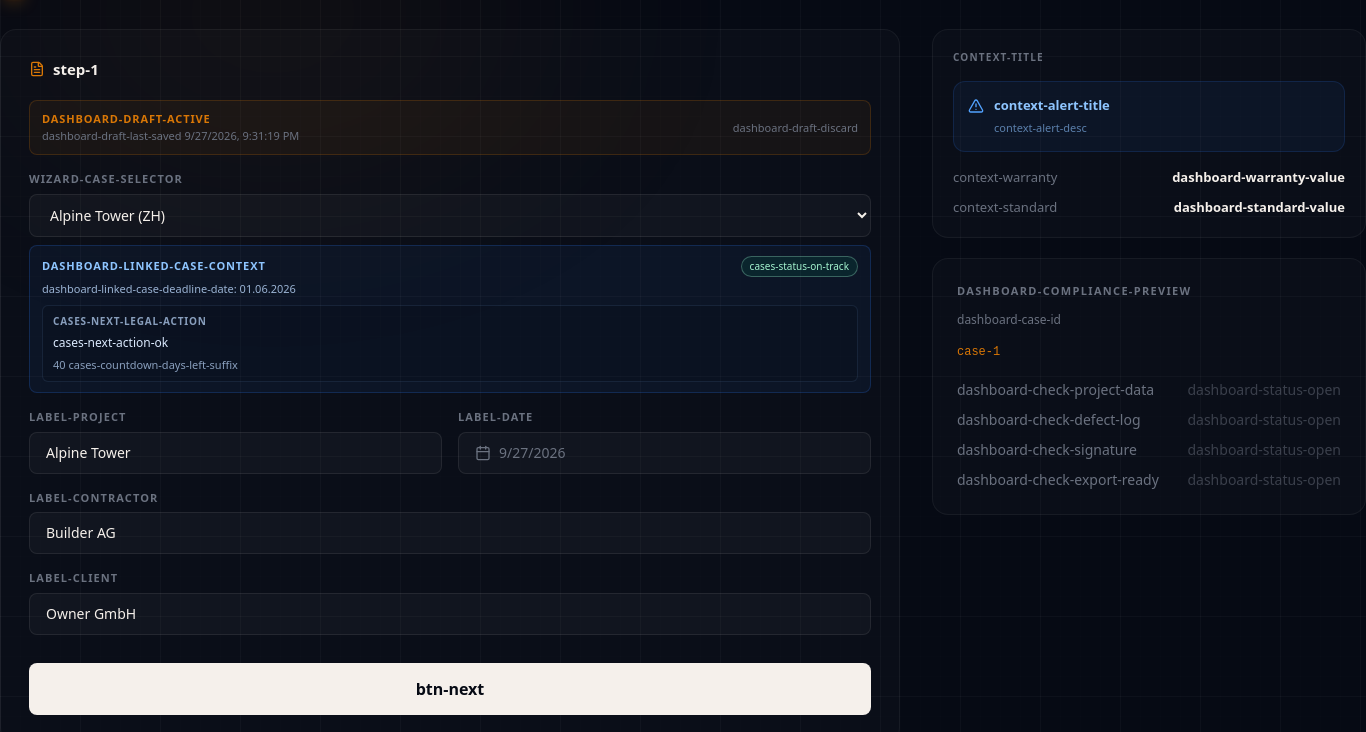
Scenario: dashboard linked-case loading retry › shows a linked-case follow-up action after finalizing a linked protocol
(page scrolled)
Click the button "btn-next" at (450, 689), box [29,663,871,715]
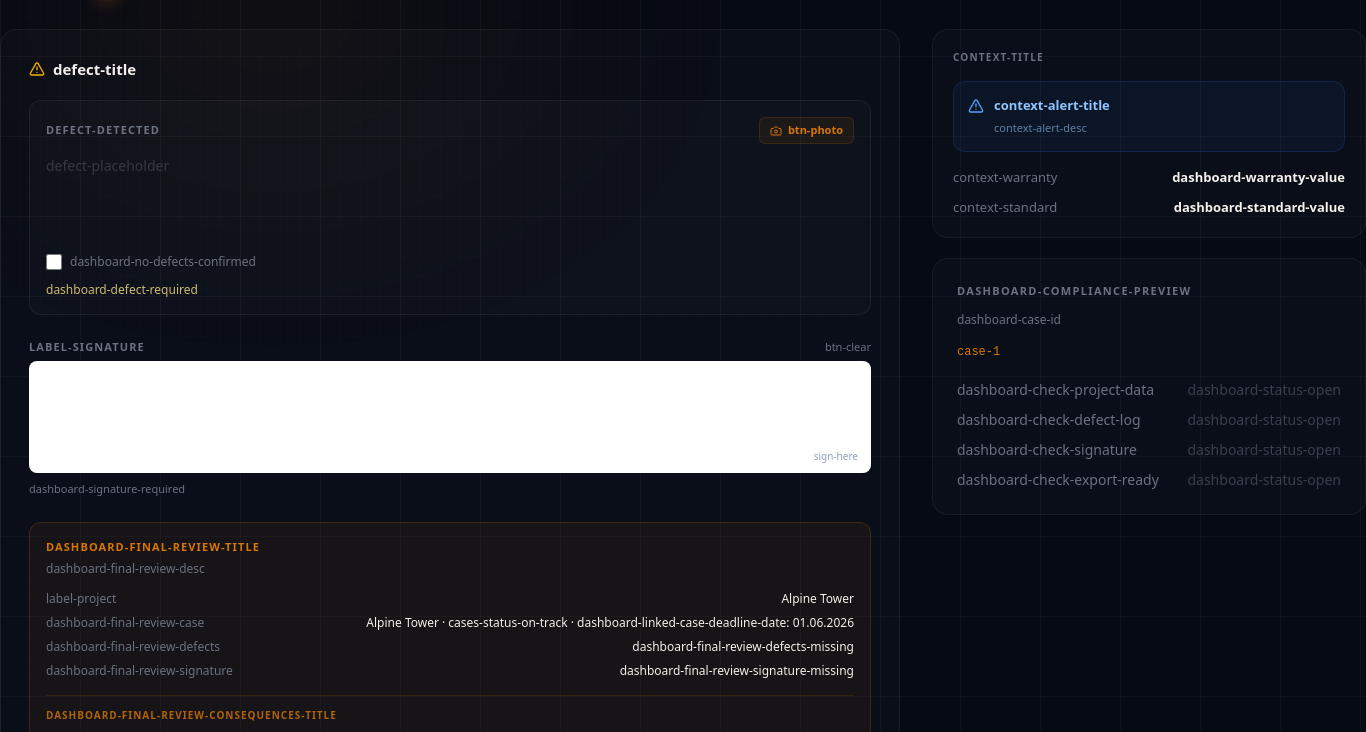
Click the checkbox at (54, 262), box [46,254,62,270]
(page scrolled)
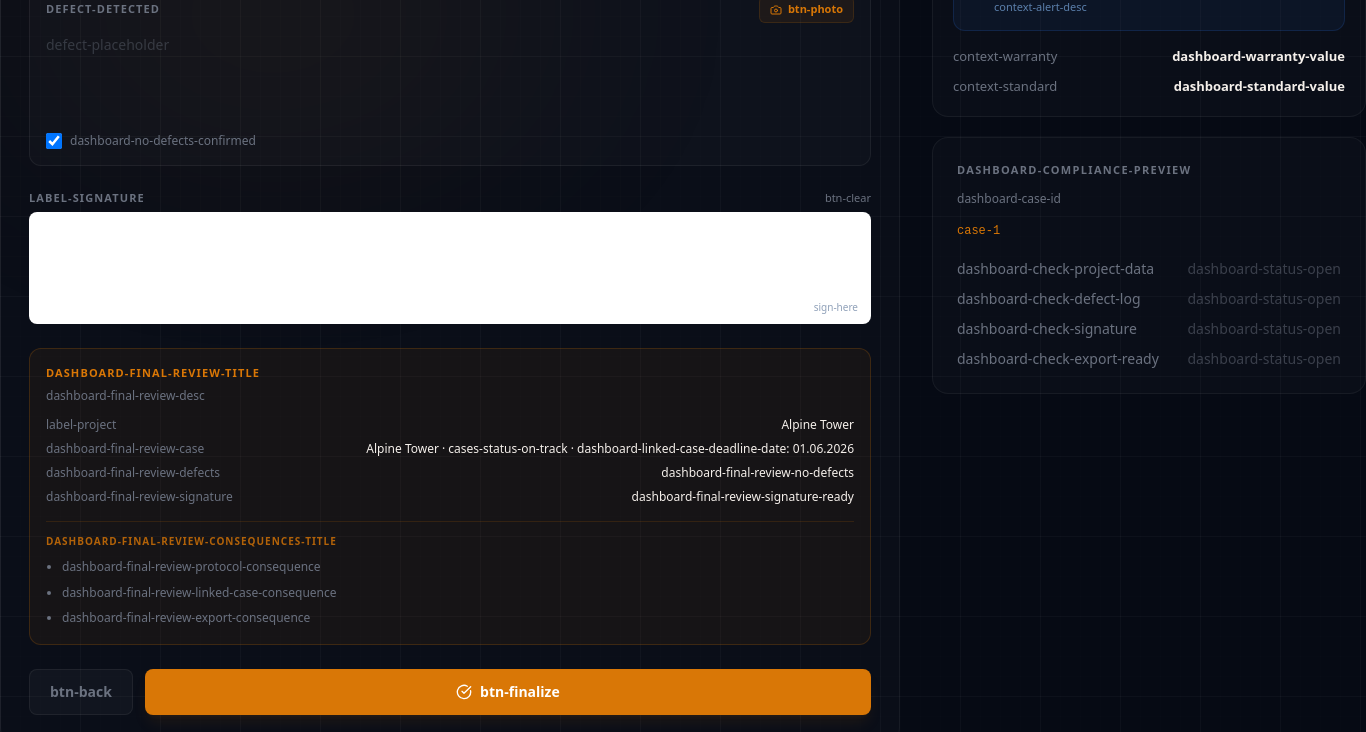
Result: the button "btn-finalize" is enabled
Click the button "btn-finalize" at (508, 692), box [145,669,871,715]
(page scrolled)
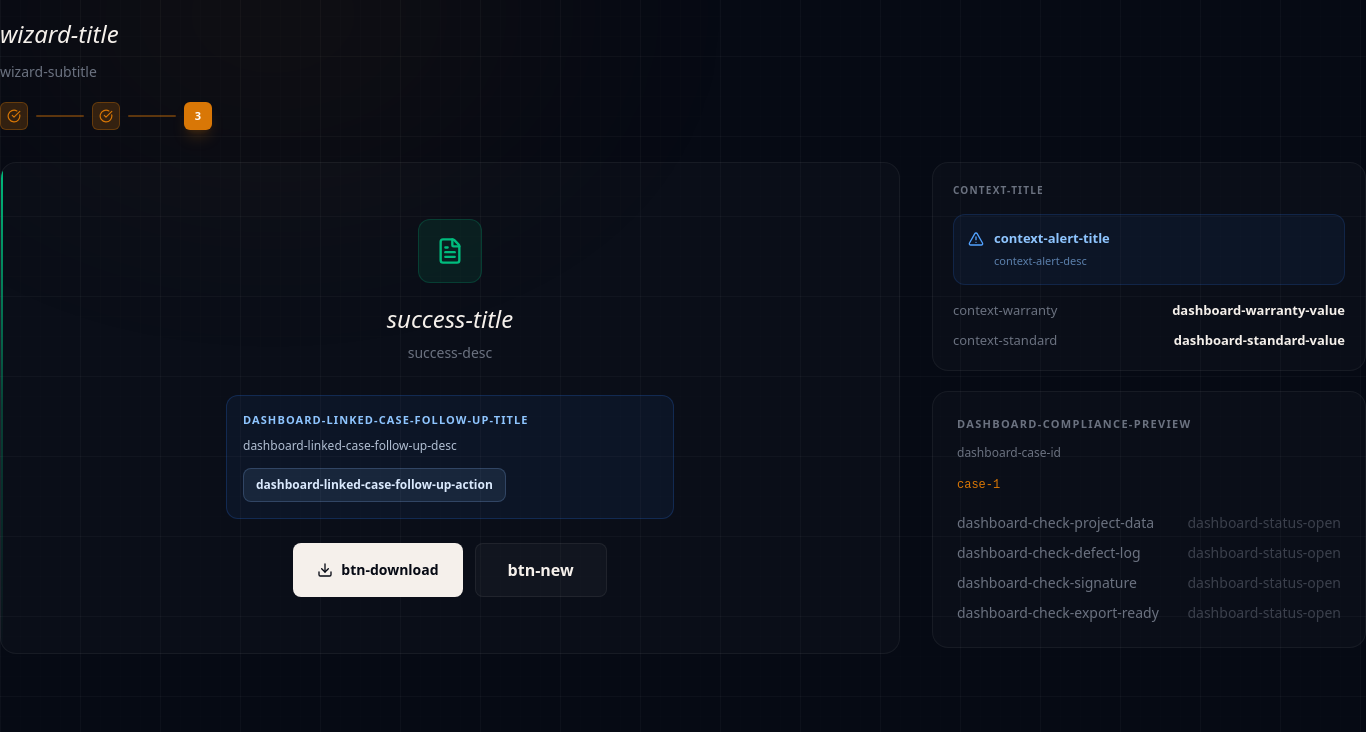
Result: the text "dashboard-linked-case-follow-up-title" is shown at [243,412,529,427]
Result: the text "dashboard-linked-case-follow-up-desc" is shown at [243,437,457,454]
